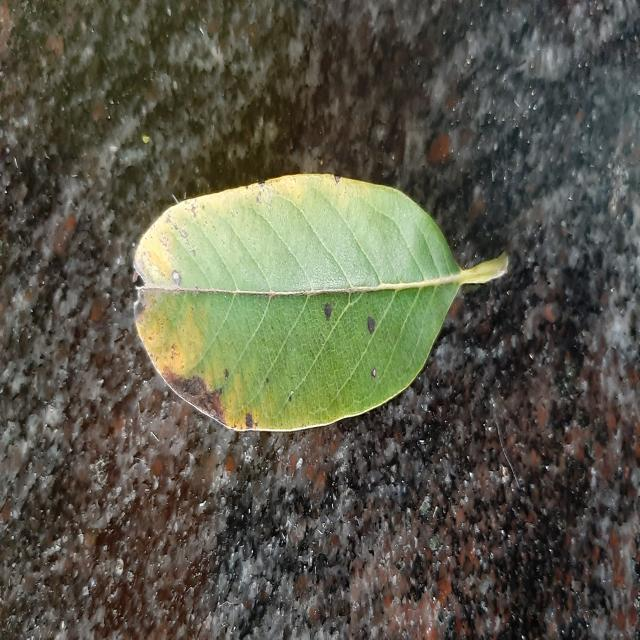leaf spot: (135, 173, 508, 431)
